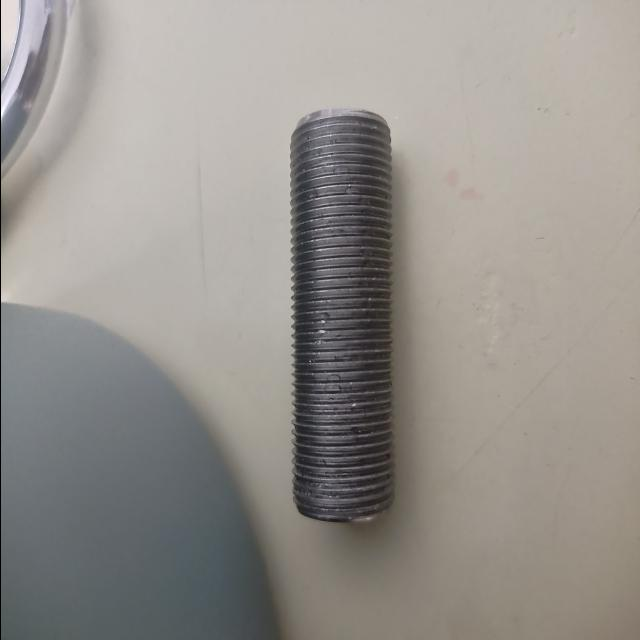Normal: (286, 106, 396, 524)
